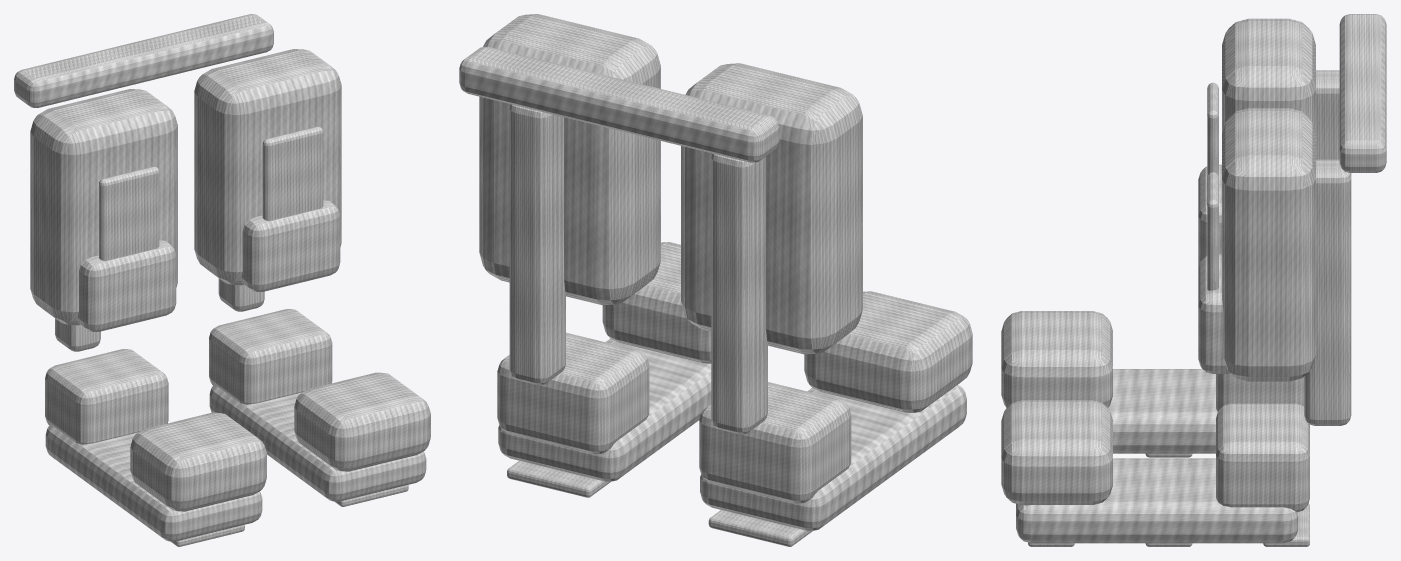
Rendered from blade_runners_variant_b.glb.
3 views of the same model, side by side, from view 1: azimuth 30°, elevation 25°; view 2: azimuth 150°, elevation 25°; view 3: azimuth 270°, elevation 25° (orthographic). The views are drawn at different scales.
Parts seen in each view (by area): view 1: Shin shell, Shin shell.001, Pair sync bridge, Toe armor.003, Toe armor.002, Heel block.002, Heel block.003, Boot sole.003, Boot sole.004, Ankle cuff.004, Ankle cuff.003, Shin inset.001 (+3 smaller); view 2: Shin shell, Shin shell.001, Pair sync bridge, Rear support rail, Rear support rail.001, Toe armor.002, Heel block.003, Heel block.002, Boot sole.003, Boot sole.004, Toe armor.003, Sole traction pad.008 (+1 smaller); view 3: Shin shell.001, Boot sole.004, Toe armor.003, Rear support rail.001, Toe armor.002, Heel block.003, Boot sole.003, Shin shell, Pair sync bridge, Ankle cuff.004, Heel block.002, Rear support rail (+4 smaller).
Part boxes in pixels (x1,y1,x2,y2): Shin shell: (30,89,177,325); Shin shell.001: (194,49,341,285); Pair sync bridge: (14,14,273,107); Toe armor.003: (294,372,430,471); Toe armor.002: (130,412,266,511); Heel block.002: (45,349,168,444); Heel block.003: (209,309,332,404); Boot sole.003: (45,425,262,541); Boot sole.004: (209,385,426,501); Ankle cuff.004: (241,200,340,291); Ankle cuff.003: (78,240,176,331); Shin inset.001: (262,126,323,220); Shin shell: (681,63,862,354); Shin shell.001: (479,14,660,305); Pair sync bridge: (459,46,779,162); Rear support rail: (711,153,767,434); Rear support rail.001: (509,104,565,384); Toe armor.002: (804,291,972,412); Heel block.003: (497,332,649,454); Heel block.002: (699,382,851,503); Boot sole.003: (700,385,966,530); Boot sole.004: (498,338,711,481); Toe armor.003: (602,242,711,363); Sole traction pad.008: (708,510,812,546); Shin shell.001: (1222,108,1315,381); Boot sole.004: (1016,458,1298,543); Toe armor.003: (1001,400,1112,505); Rear support rail.001: (1304,159,1351,425); Toe armor.002: (1001,311,1112,407); Heel block.003: (1216,403,1309,512); Boot sole.003: (1108,369,1217,453); Shin shell: (1222,18,1315,133); Pair sync bridge: (1339,14,1386,172); Ankle cuff.004: (1198,254,1230,373); Heel block.002: (1216,374,1304,411); Rear support rail: (1316,70,1339,159).
Size of what is drawn, in the model's own units: 0.63 by 0.764 by 0.655.
5 materials, 5 textured.
